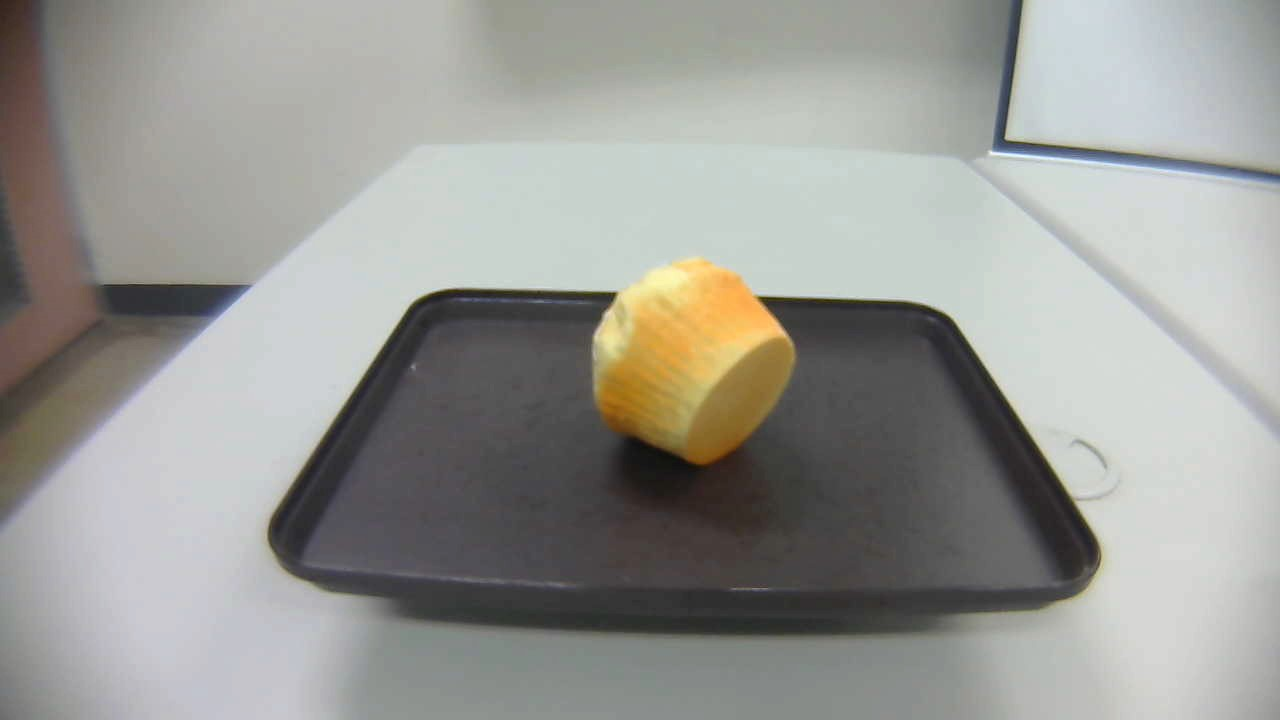cupcake: (587, 256, 799, 467)
